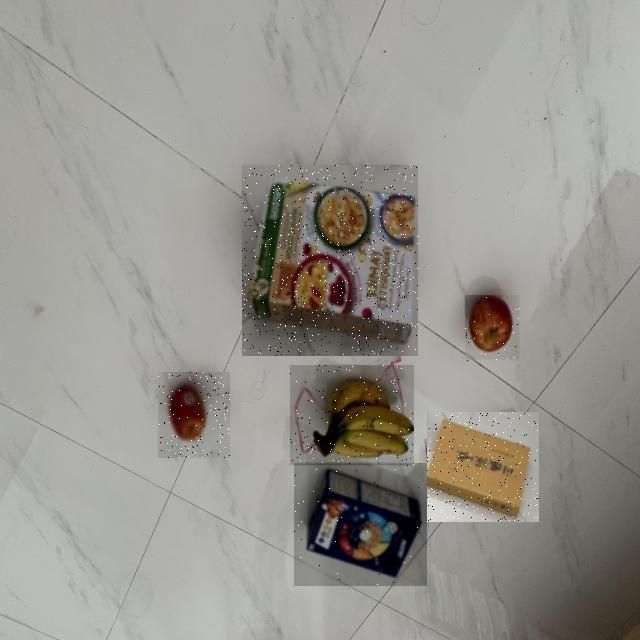apple: (205, 181, 640, 543), (43, 229, 273, 640)
banana: (83, 232, 497, 640)
